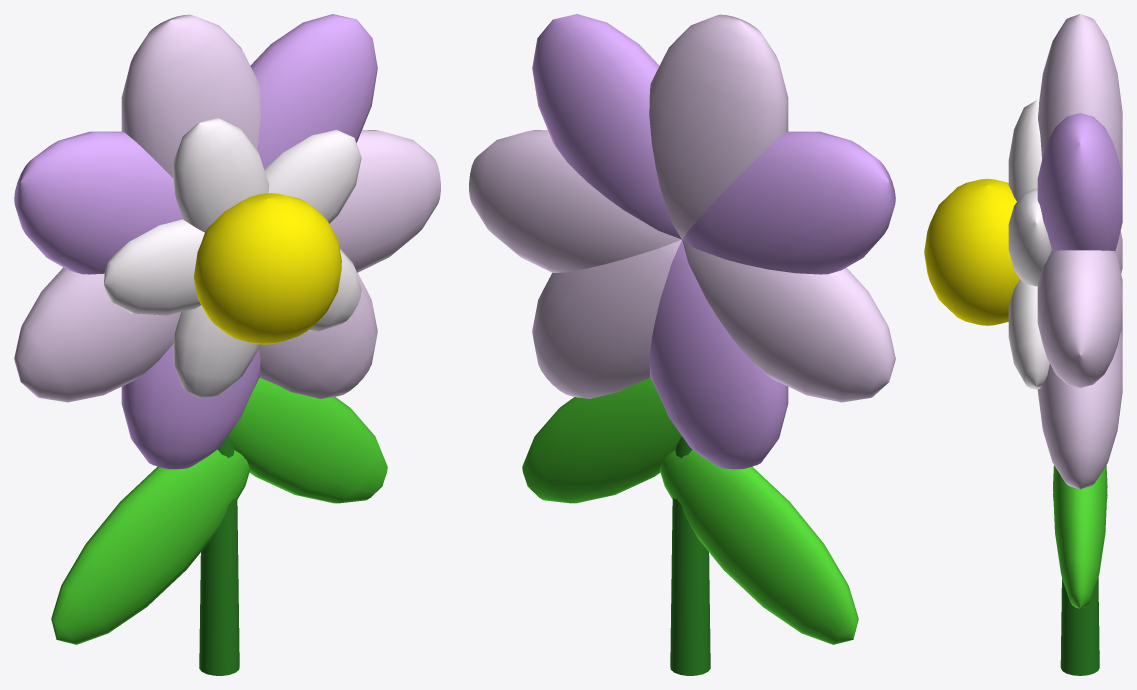
Rendered from fleur_violette_greenhill.glb.
3 renders of one model, left to right at view 1: azimuth 30°, elevation 25°; view 2: azimuth 150°, elevation 25°; view 3: azimuth 270°, elevation 25°, orthographic. The views are drawn at different scales.
Parts seen in each view (by area): view 1: Leaf_Left, Center, Outer_Petal_4, Outer_Petal_3, Outer_Petal_5, Leaf_Right, Outer_Petal_2, Outer_Petal_1, Outer_Petal_6, Inner_Petal_2, Outer_Petal_7, Inner_Petal_3 (+4 smaller); view 2: Outer_Petal_4, Outer_Petal_3, Outer_Petal_5, Outer_Petal_2, Leaf_Left, Outer_Petal_6, Outer_Petal_1, Outer_Petal_7, Leaf_Right, Stem; view 3: Center, Outer_Petal_1, Outer_Petal_2, Outer_Petal_3, Outer_Petal_7, Leaf_Right, Inner_Petal_5, Inner_Petal_1, Stem, Inner_Petal_2.
Boxes of the visible parts, <box> form: Leaf_Left: <box>51,449,249,644</box>; Center: <box>194,193,341,344</box>; Outer_Petal_4: <box>14,131,182,274</box>; Outer_Petal_3: <box>121,14,260,178</box>; Outer_Petal_5: <box>14,267,180,402</box>; Leaf_Right: <box>228,378,387,503</box>; Outer_Petal_2: <box>250,14,377,169</box>; Outer_Petal_1: <box>329,130,440,272</box>; Outer_Petal_6: <box>121,344,260,469</box>; Inner_Petal_2: <box>173,118,269,232</box>; Outer_Petal_7: <box>259,273,377,398</box>; Inner_Petal_3: <box>104,219,204,315</box>; Outer_Petal_4: <box>682,131,895,274</box>; Outer_Petal_3: <box>649,14,788,239</box>; Outer_Petal_5: <box>682,240,895,402</box>; Outer_Petal_2: <box>532,14,681,239</box>; Leaf_Left: <box>660,449,858,644</box>; Outer_Petal_6: <box>649,240,788,469</box>; Outer_Petal_1: <box>469,130,681,272</box>; Outer_Petal_7: <box>532,240,681,398</box>; Leaf_Right: <box>522,378,681,503</box>; Stem: <box>670,436,710,675</box>; Center: <box>924,178,1019,325</box>; Outer_Petal_1: <box>1037,250,1122,388</box>; Outer_Petal_2: <box>1037,113,1122,251</box>; Outer_Petal_3: <box>1038,14,1122,171</box>; Outer_Petal_7: <box>1037,330,1122,489</box>; Leaf_Right: <box>1053,465,1107,608</box>; Inner_Petal_5: <box>1008,279,1049,389</box>; Inner_Petal_1: <box>1008,188,1051,286</box>; Stem: <box>1060,578,1099,675</box>; Inner_Petal_2: <box>1008,100,1041,201</box>.
Size of the model in its own units: 0.4798 by 0.7137 by 0.2036.
